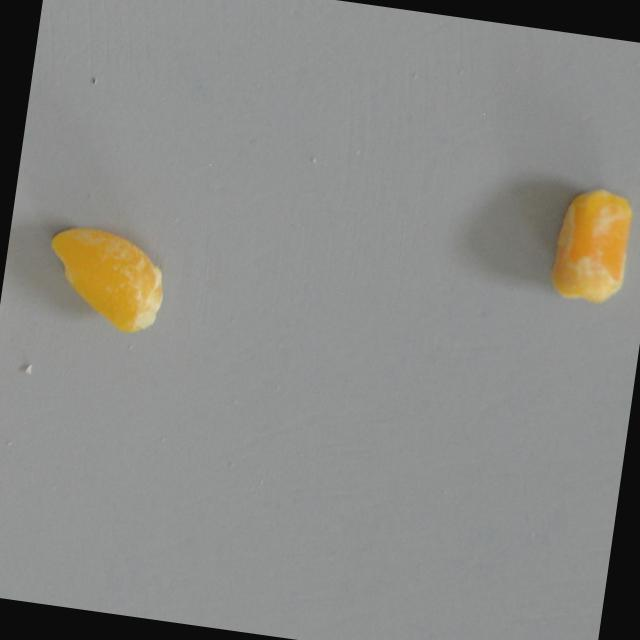pelicula: (47, 204, 159, 347), (546, 179, 636, 315)
